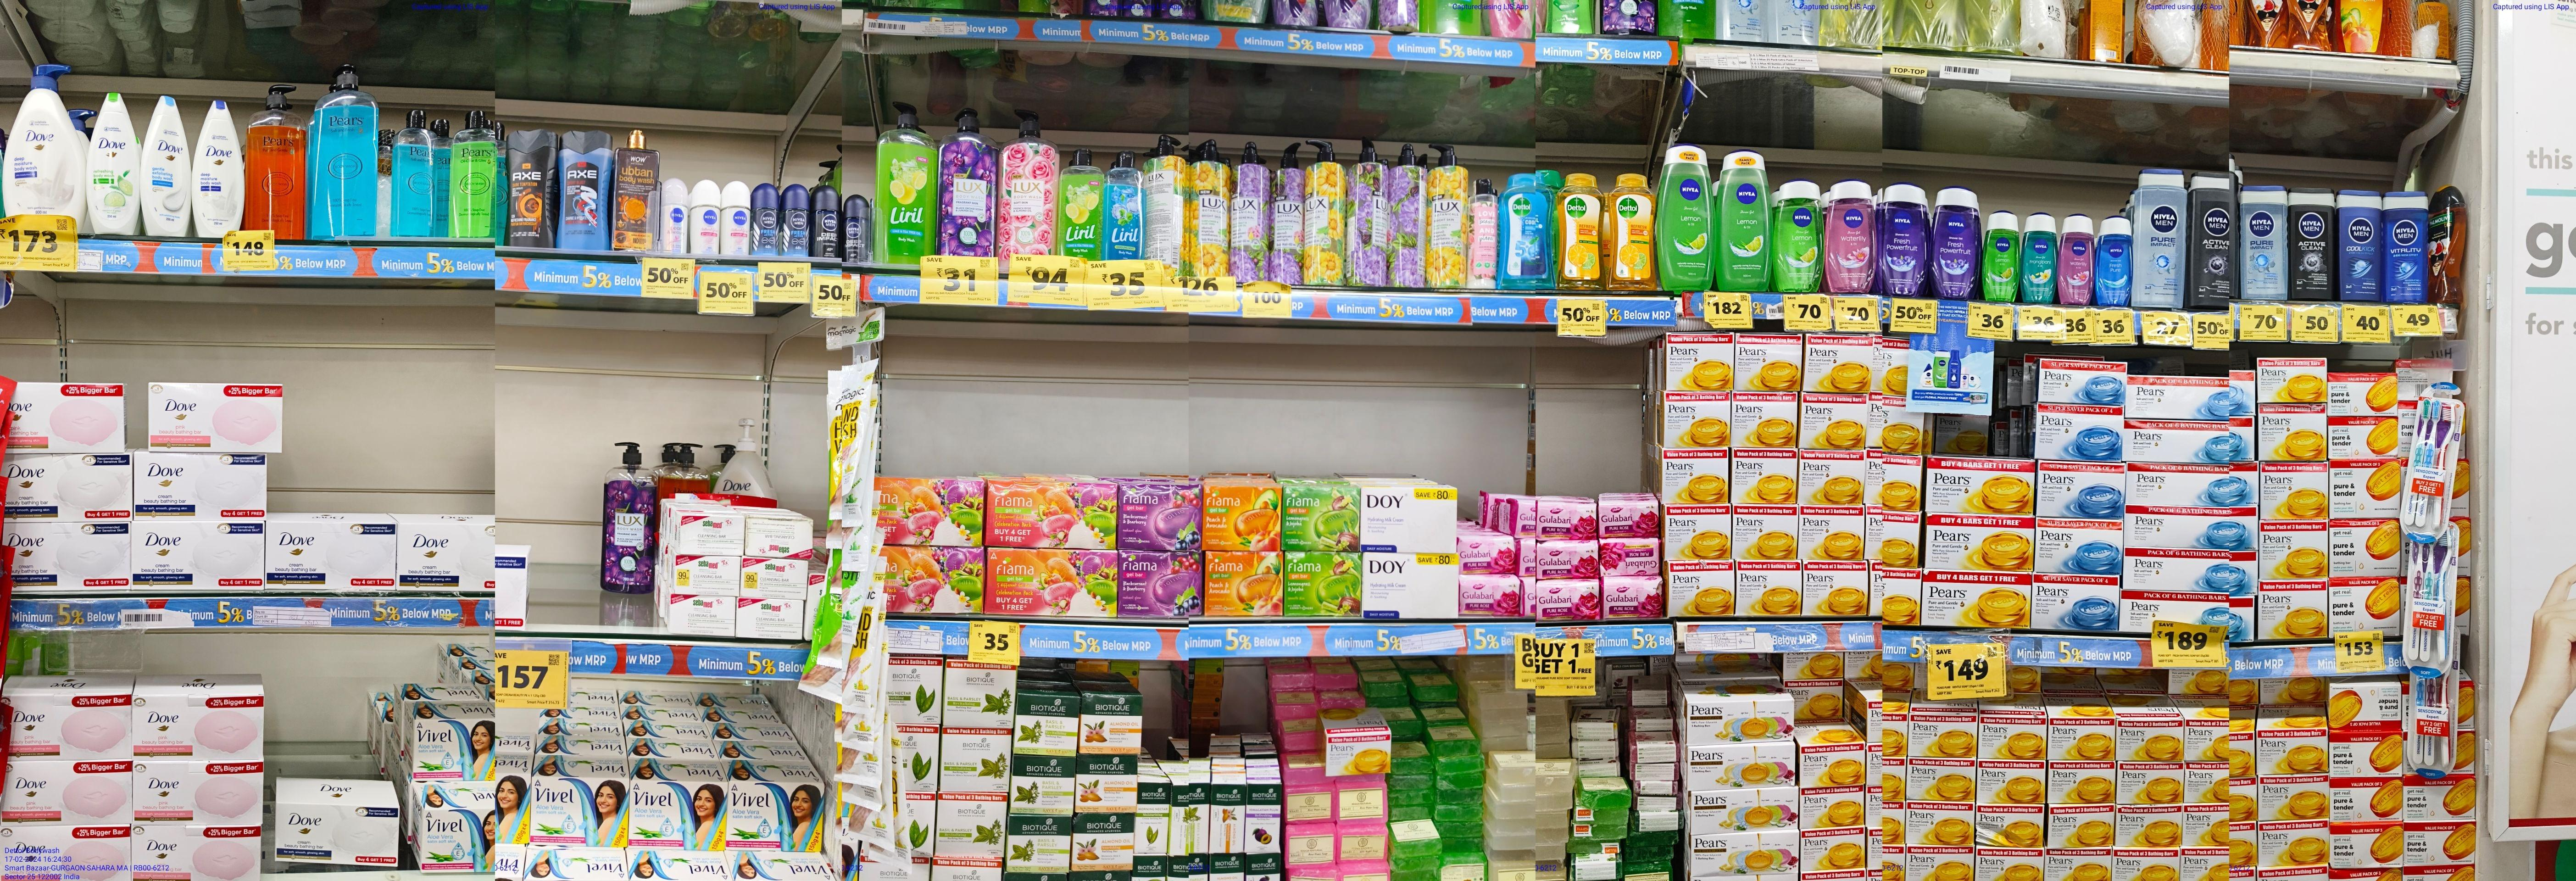Dettol_Bodywash_Cool: (1500, 169, 1546, 289)
Dettol_Bodywash_Refresh: (1554, 173, 1607, 291), (1610, 166, 1654, 288)
Dove_Deep_Moisture_Body_Wash_250ML: (192, 94, 240, 237)
Dove_Gentle_Exfoliating_Body_Wash_250ML: (140, 94, 191, 238)
Dove_Refreshing_Body_Wash_250ML: (90, 92, 136, 237)
Liril_Cooling_Mint_Body_Wash_250ML: (1104, 151, 1142, 261)
Liril_Lime_and_Tea_Tree_Oil_Body_Wash_250ML: (1060, 148, 1102, 261)
Nivea_Shower_Gel_Fresh_Powerfruit_250ML: (1881, 182, 1927, 298), (1932, 191, 1980, 299)
Nivea_Shower_Gel_Lemon_and_Oil_250ML: (1661, 146, 1715, 296), (1717, 150, 1771, 293), (1776, 184, 1820, 293)
Nivea_Shower_Gel_Waterlily_and_Oil_250ML: (1825, 179, 1873, 289)
Palmolive_Luminous_Oils_With_White_Orchid_Shower_Gel_250ML: (2428, 187, 2466, 307)
Pears_Pure_Glycerin_and_Lemon_Flower_Extracts_Body_Wash_250ML: (452, 112, 491, 237)
Pears_Pure_Glycerin_and_Mint_Extracts_Body_Wash_250ML: (394, 105, 432, 237)
